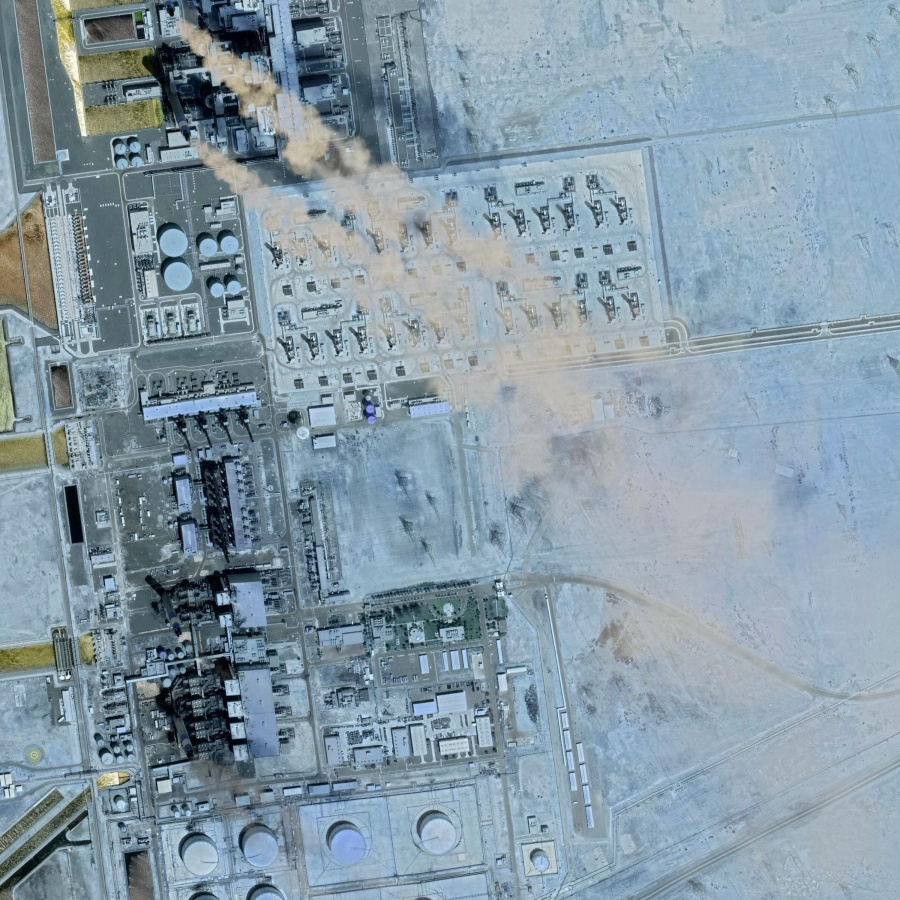PowerPlant: (92, 447, 314, 763)
